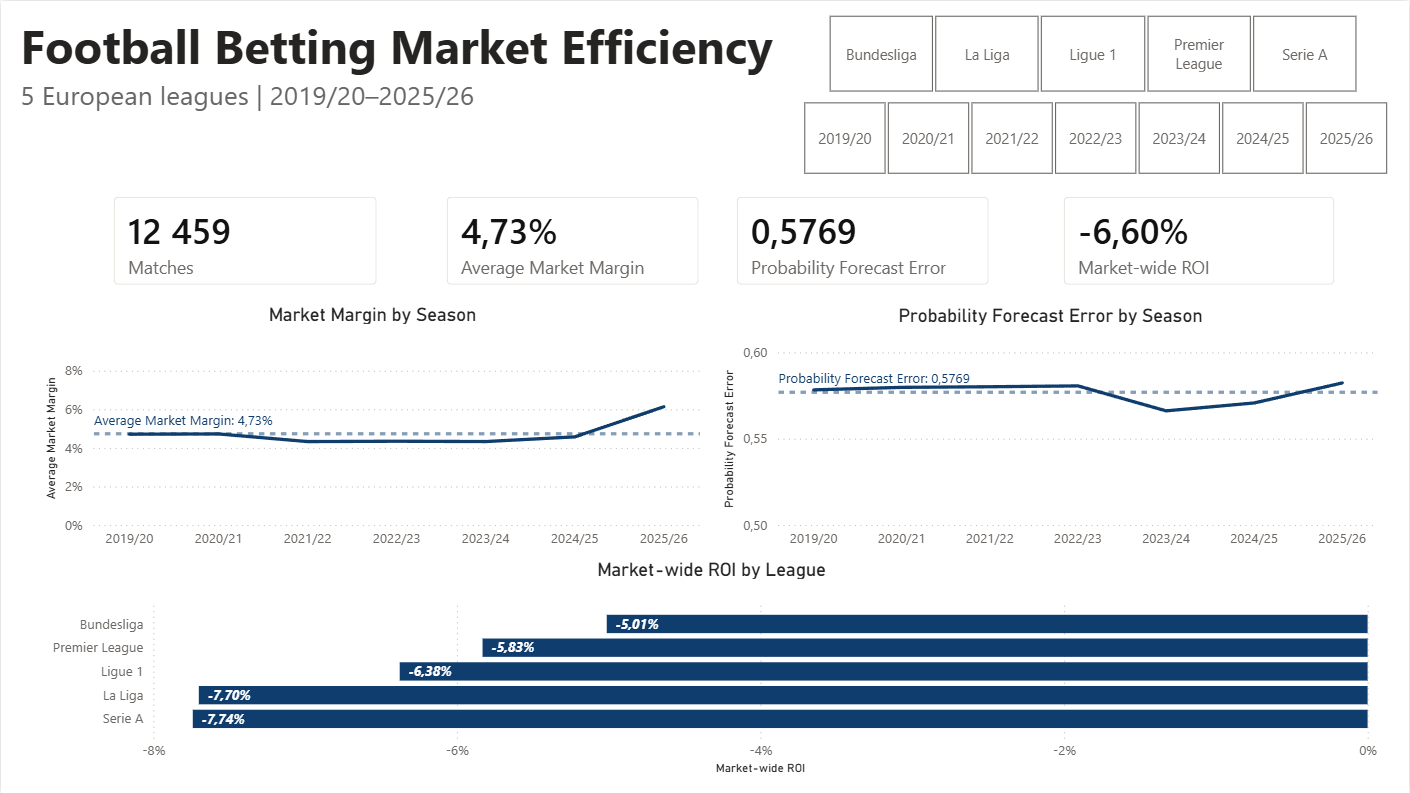

The dashboard page shown, as its layout file describes it:
{"tool":"powerbi","page":{"name":"Market Analysis","canvas":[1280,720],"ordinal":0},"visuals":[{"type":"slicer","fields":{"Values":["dim_season.season_label"]},"box":[708.2,89.1,571.8,71.8],"z":0},{"type":"slicer","fields":{"Values":["dim_league.league_name"]},"box":[727.3,6.4,529.1,82.7],"z":1000},{"type":"cardVisual","fields":{"Data":["_Measures.Market-wide ROI"]},"box":[949.1,160.9,280,114.5],"z":2000},{"type":"cardVisual","fields":{"Data":["_Measures.Brier Score"]},"box":[651.8,160.9,263.6,114.5],"z":3000},{"type":"cardVisual","fields":{"Data":["_Measures.Average Market Margin"]},"box":[388.2,160.9,263.6,114.5],"z":4000},{"type":"cardVisual","fields":{"Data":["_Measures.Matches"]},"box":[85.5,160.9,273.6,114.5],"z":5000},{"type":"lineChart","title":"Market Margin by Season","fields":{"Category":["dim_season.season_label"],"Y":["_Measures.Average Market Margin"]},"box":[35.5,274.5,604.5,231.8],"z":6000},{"type":"lineChart","title":"Probability Forecast Error by Season","fields":{"Category":["dim_season.season_label"],"Y":["_Measures.Brier Score"]},"box":[651.8,275.5,604.5,230.9],"z":7000},{"type":"barChart","title":"Market-wide ROI by League","fields":{"Category":["dim_league.league_name"],"Y":["_Measures.Market-wide ROI"]},"box":[35.5,506.4,1220.9,201.8],"z":8000},{"type":"textbox","box":[12.7,6.4,704.5,103.6],"z":9000}]}

Visuals, with their boxes in screenshot pixels (x1, y1, x2, y2), scaled from the page's 1280x720 canvas onto the 1410x793 screenshot:
slicer - dim_season.season_label: locate(780, 98, 1409, 177)
slicer - dim_league.league_name: locate(801, 7, 1384, 98)
cardVisual - _Measures.Market-wide ROI: locate(1045, 177, 1354, 303)
cardVisual - _Measures.Brier Score: locate(718, 177, 1008, 303)
cardVisual - _Measures.Average Market Margin: locate(428, 177, 718, 303)
cardVisual - _Measures.Matches: locate(94, 177, 396, 303)
"Market Margin by Season" lineChart: locate(39, 302, 705, 558)
"Probability Forecast Error by Season" lineChart: locate(718, 303, 1384, 558)
"Market-wide ROI by League" barChart: locate(39, 558, 1384, 780)
textbox: locate(14, 7, 790, 121)
